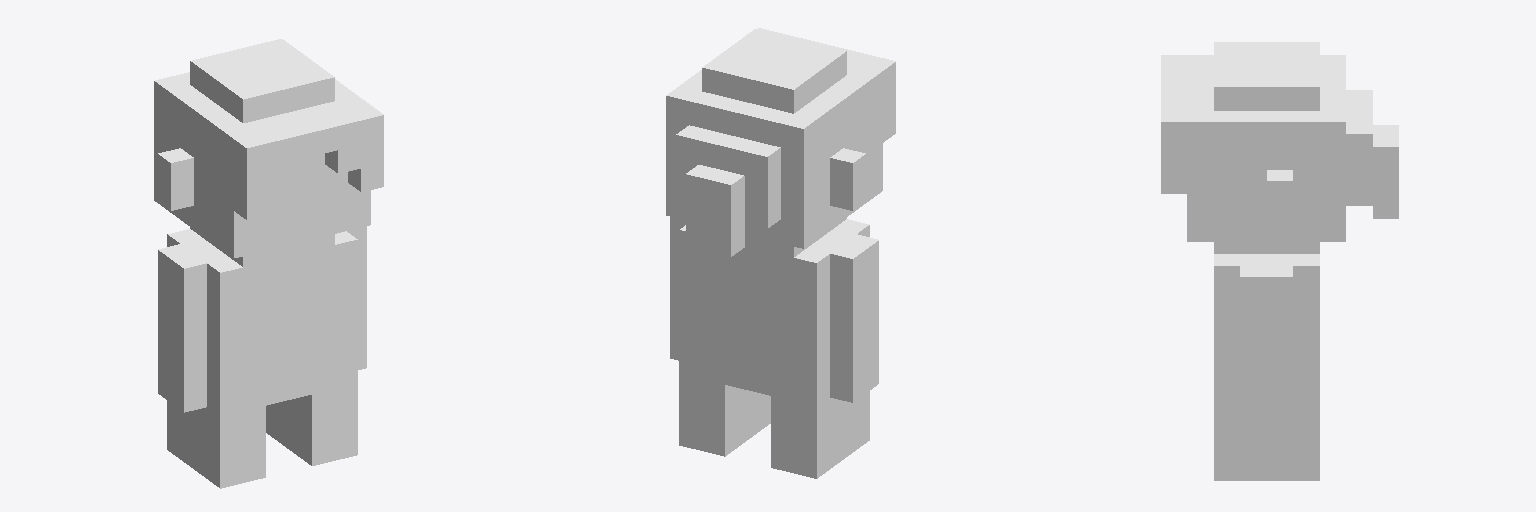
File: npc_parent_one.obj
The picture shows the model from 3 angles: view 1: azimuth 30°, elevation 25°; view 2: azimuth 150°, elevation 25°; view 3: azimuth 270°, elevation 25°; orthographic projection.
Parts seen in each view (by area): view 1: object 1; view 2: object 1; view 3: object 1.
Part boxes in pixels (bbox=[...]): object 1: bbox=[154, 39, 383, 488]; object 1: bbox=[666, 28, 895, 478]; object 1: bbox=[1161, 42, 1398, 480].
Bounding box in the file's own units: 0.8 × 1.6 × 0.9.